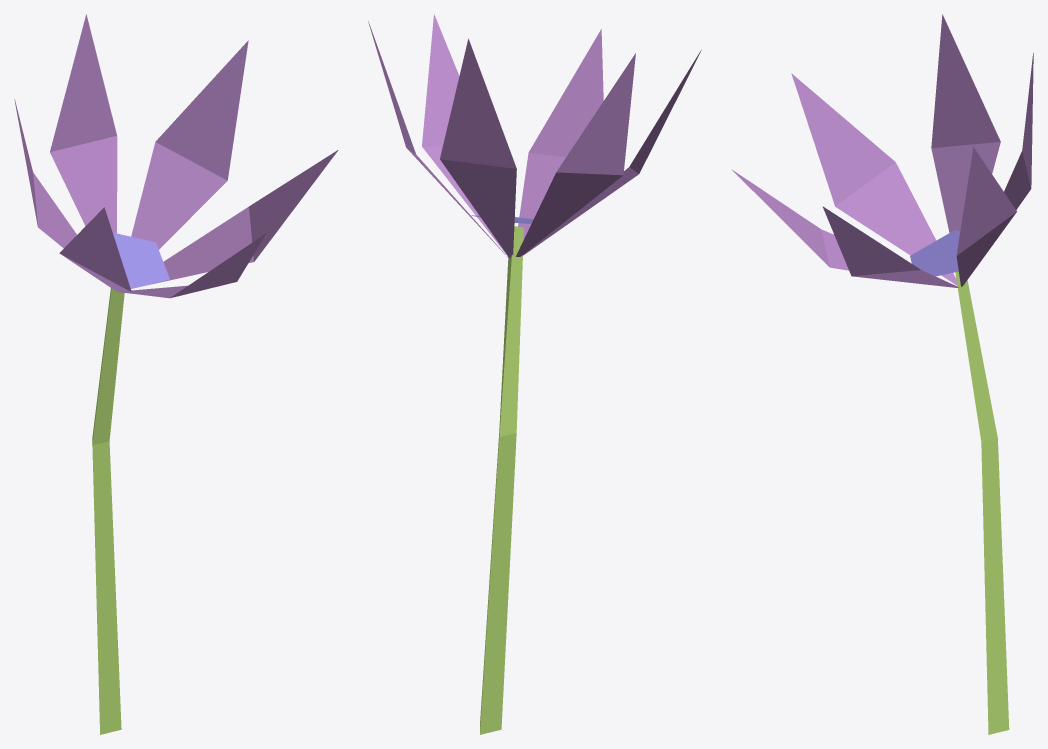
File: Flower_b_TwoS_01.fbx
The picture shows the model from 3 angles, left to right: view 1: azimuth 30°, elevation 25°; view 2: azimuth 150°, elevation 25°; view 3: azimuth 270°, elevation 25°; orthographic projection. The views are drawn at different scales.
Visible parts, largest first — view 1: Flower_b_TwoS_01; view 2: Flower_b_TwoS_01; view 3: Flower_b_TwoS_01.
Part boxes in pixels (bbox=[...]): Flower_b_TwoS_01: bbox=[14, 14, 338, 734]; Flower_b_TwoS_01: bbox=[368, 14, 701, 734]; Flower_b_TwoS_01: bbox=[731, 14, 1033, 734].
Bounding box in the file's own units: 0.1908 × 0.4869 × 0.1967.
